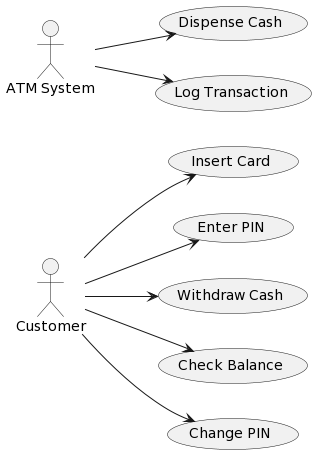actor: (33, 17, 67, 82), (34, 257, 69, 320)
association: (80, 332, 198, 426), (83, 173, 196, 260), (84, 236, 201, 284), (84, 305, 195, 353), (93, 29, 178, 54), (94, 62, 177, 86), (85, 289, 160, 304)
text: (173, 355, 292, 376), (174, 286, 289, 305), (173, 84, 289, 101), (176, 14, 284, 31), (3, 79, 99, 98), (186, 423, 275, 442), (190, 153, 272, 171), (192, 219, 269, 236), (13, 319, 89, 336)
use_case: (153, 73, 314, 114), (155, 345, 309, 386), (156, 275, 309, 316), (157, 4, 310, 42), (165, 416, 299, 452), (166, 144, 301, 178), (171, 211, 297, 245)
